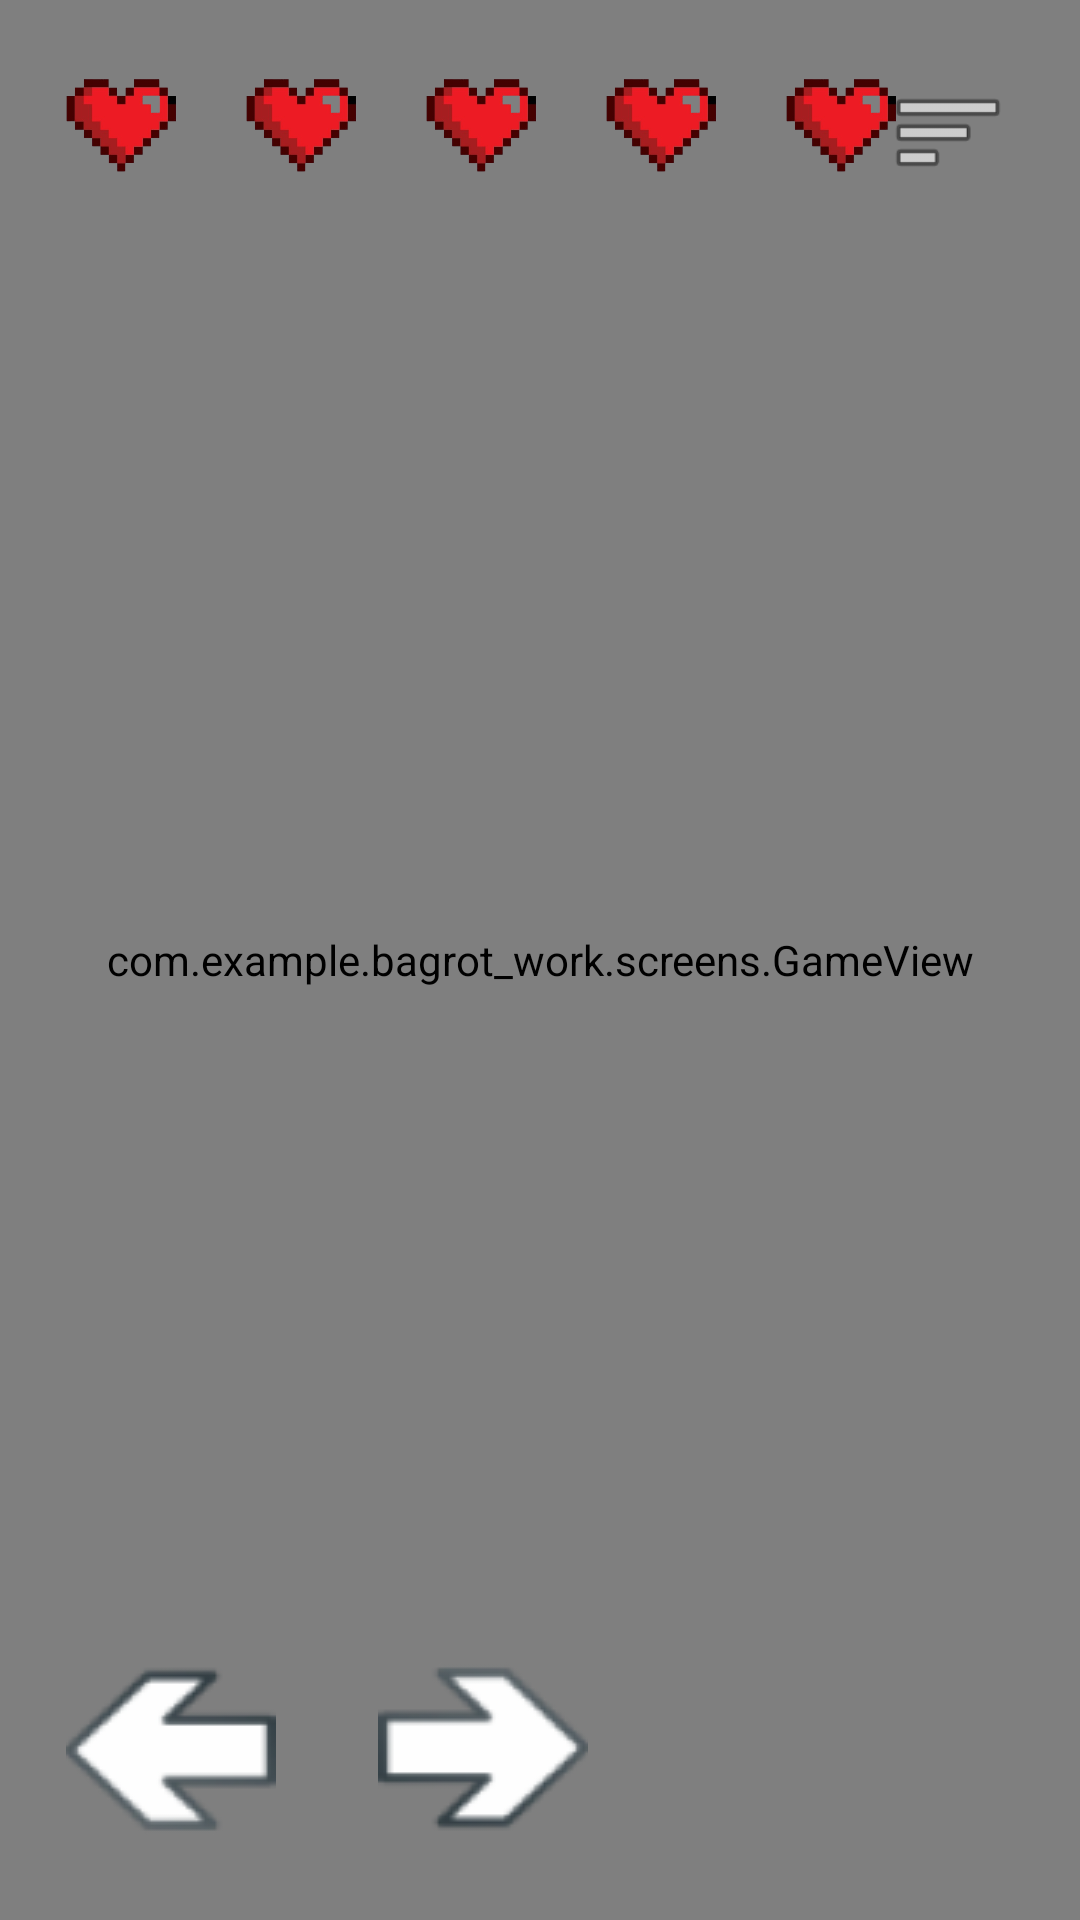

Point at icon controls on the screen. Image size 1080 x 1920, points as point (x, y).
full heart: point (121, 125), point (301, 125), point (481, 125), point (661, 125), point (841, 125)
sort by size: point (948, 132)
